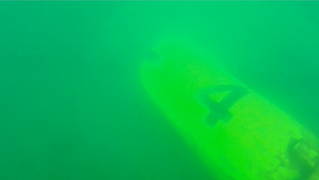4: (197, 83, 252, 129)
pipe: (139, 34, 319, 180)
